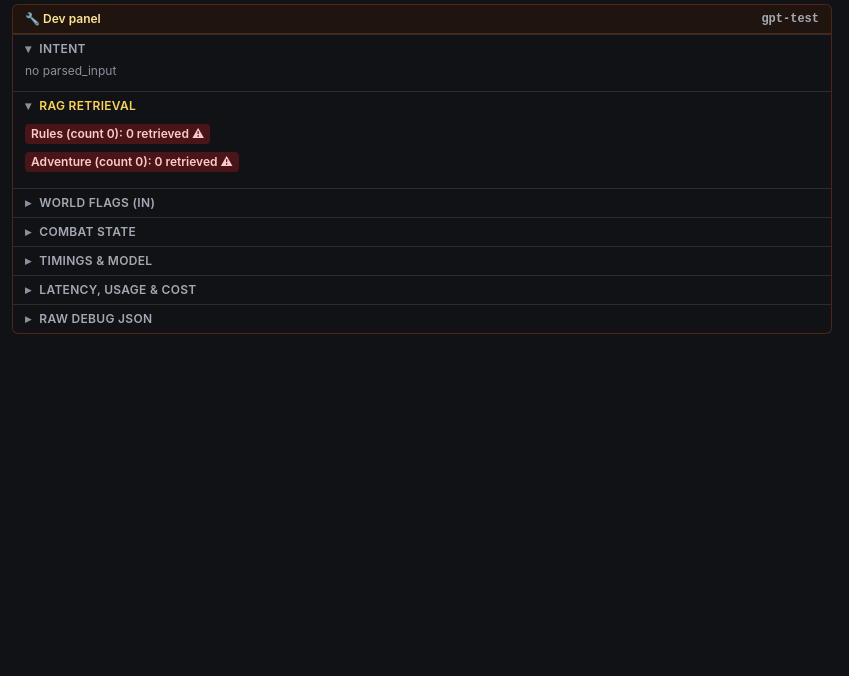
Test: shows unknown usage, cost and first-text values, and labels the total as partial
Click the button "▸ Latency, usage & cost" at (118, 290), box x1=13 y1=276 x2=831 y2=304
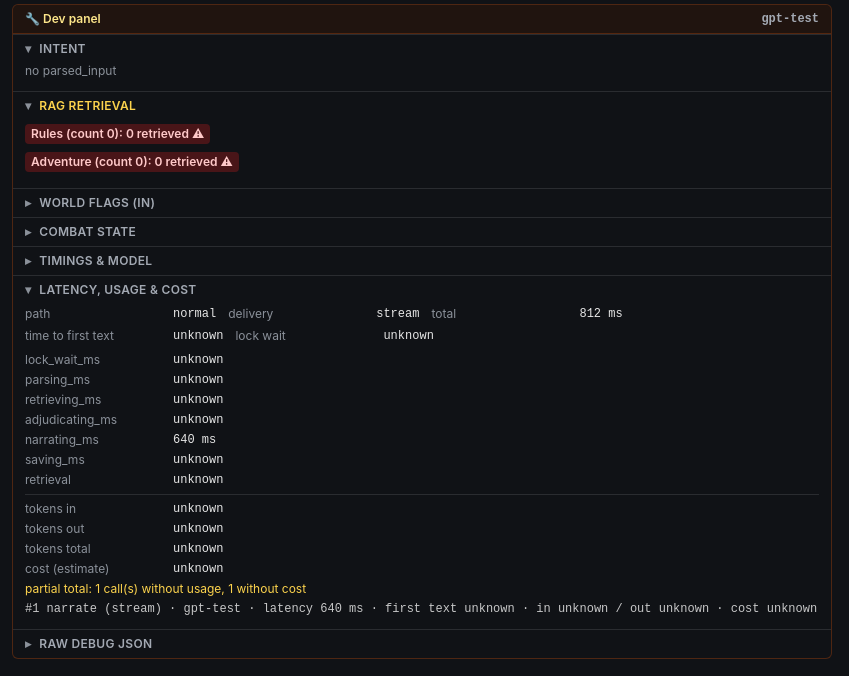
Now the text "time to first text" is shown, box x1=25 y1=328 x2=114 y2=343
Now the text "unknown" is shown, box x1=173 y1=328 x2=223 y2=344
Now the text "partial total: 1 call(s) without usage, 1 without cost" is shown, box x1=25 y1=581 x2=306 y2=596
